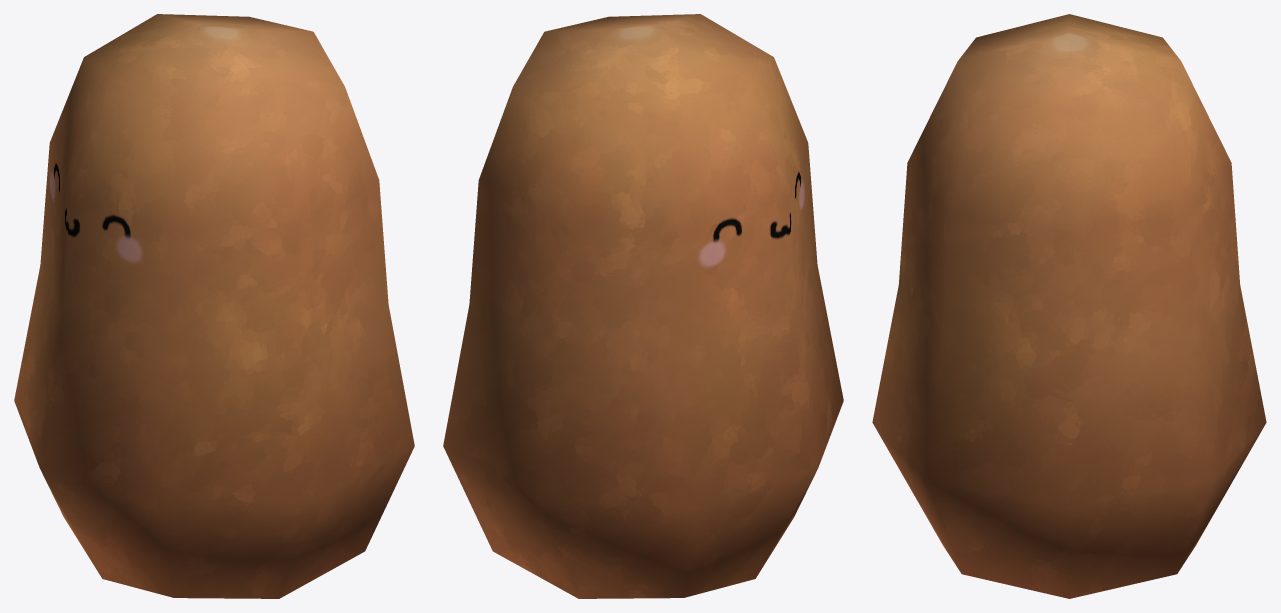
The model's file is potato.fbx.
The picture shows the model from 3 angles, left to right: view 1: azimuth 30°, elevation 25°; view 2: azimuth 150°, elevation 25°; view 3: azimuth 270°, elevation 25°; orthographic projection. The views are drawn at different scales.
Visible parts, largest first — view 1: Potato; view 2: Potato; view 3: Potato.
Part boxes in pixels (x1,y1,x2,y2): Potato: [14, 14, 414, 598]; Potato: [443, 14, 843, 598]; Potato: [872, 14, 1266, 598].
Bounding box in the file's own units: 89.94 × 135 × 89.94.
